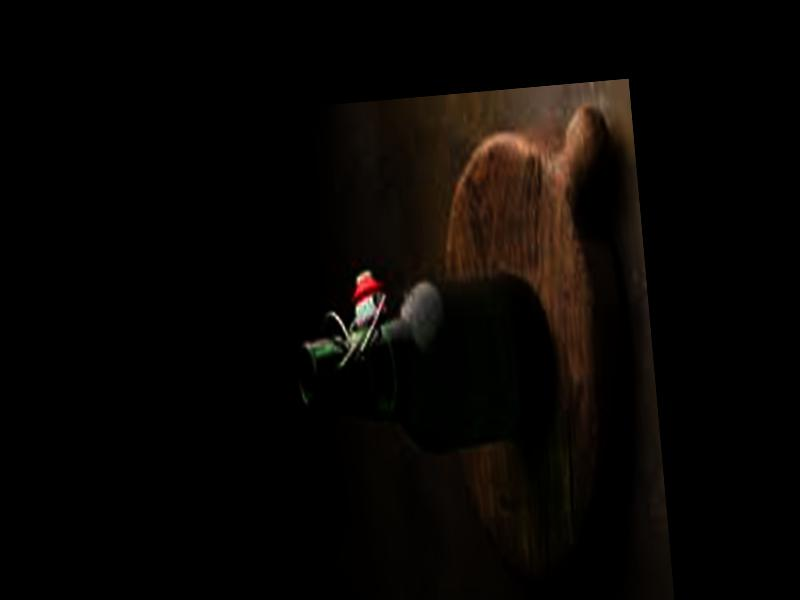Beer: (287, 272, 552, 457)
